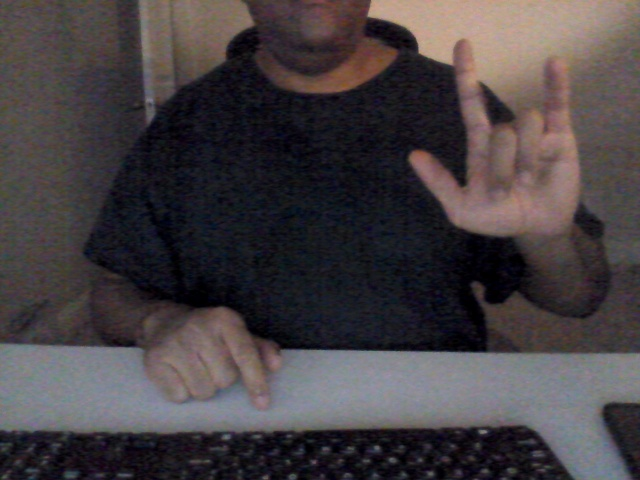i_love_you: (401, 36, 585, 241)
